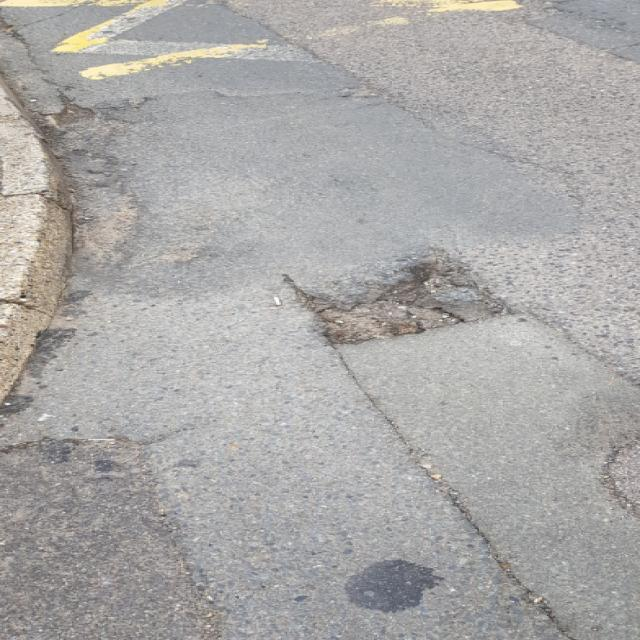pothole: (290, 246, 522, 346)
